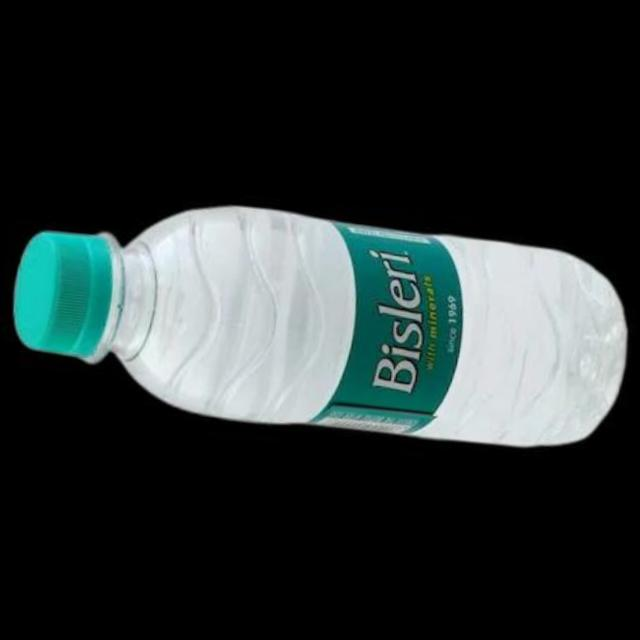Bisleri Packaged Drinking Water 250 ml: (0, 176, 635, 464)
